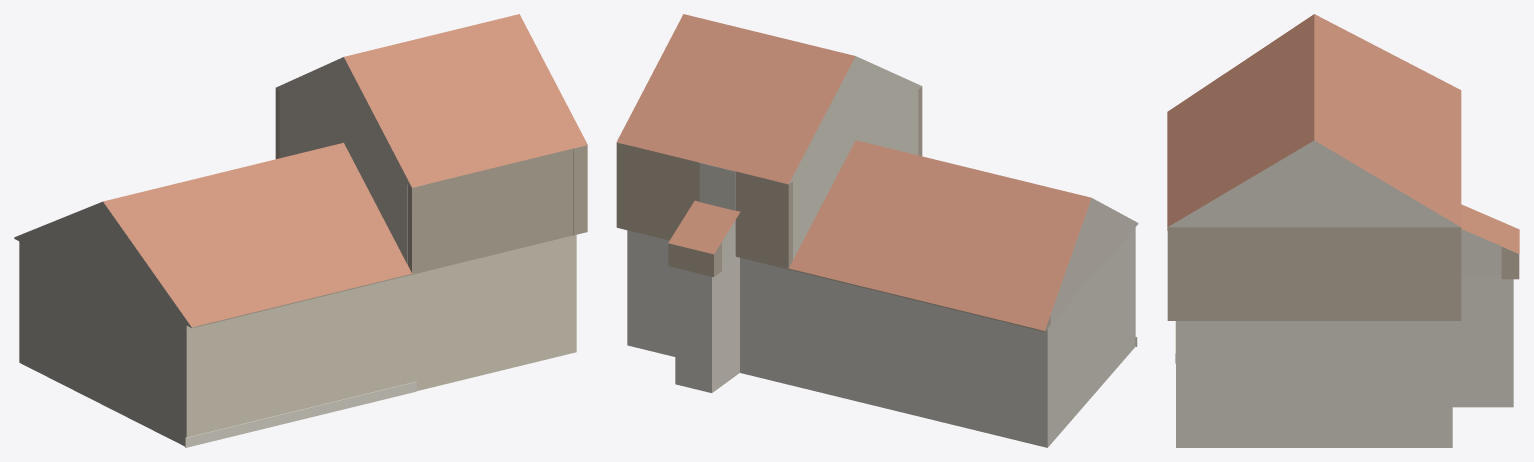
3 renders of one model, left to right at view 1: azimuth 30°, elevation 25°; view 2: azimuth 150°, elevation 25°; view 3: azimuth 270°, elevation 25°, orthographic. The views are drawn at different scales.
Visible parts, largest first — view 1: CP_627_Masonry, CP_627_Roof, CP_627_WingRoof_Dwelling, CP_627_WingRoof_Dwelling_EaveClosure_0, CP_627_AtticClosure, CP_627_Gable_L_gable, CP_627_Cornice_plinth_0, CP_627_WingRoof_Dwelling_EaveClosure_1, CP_627_WingRoof_Dwelling_EaveClosure_3; view 2: CP_627_Masonry, CP_627_Roof, CP_627_WingRoof_Dwelling, CP_627_WingRoof_Dwelling_EaveClosure_2, CP_627_AtticClosure, CP_627_Gable_L_gable, CP_627_WingRoof_Stair, CP_627_WingRoof_Stair_EaveClosure_0, CP_627_WingRoof_Dwelling_EaveClosure_1, CP_627_WingRoof_Dwelling_EaveClosure_3; view 3: CP_627_Masonry, CP_627_WingRoof_Dwelling, CP_627_WingRoof_Dwelling_EaveClosure_1, CP_627_Roof, CP_627_WingRoof_Dwelling_EaveClosure_0, CP_627_WingRoof_Dwelling_EaveClosure_2, CP_627_AtticClosure, CP_627_WingRoof_Stair, CP_627_WingRoof_Stair_EaveClosure_0.
Part boxes in pixels (bbox=[...]): CP_627_Masonry: bbox=[19, 235, 576, 446]; CP_627_Roof: bbox=[103, 142, 416, 327]; CP_627_WingRoof_Dwelling: bbox=[275, 14, 587, 187]; CP_627_WingRoof_Dwelling_EaveClosure_0: bbox=[408, 148, 573, 272]; CP_627_AtticClosure: bbox=[279, 58, 407, 264]; CP_627_Gable_L_gable: bbox=[14, 201, 197, 327]; CP_627_Cornice_plinth_0: bbox=[185, 381, 416, 447]; CP_627_WingRoof_Dwelling_EaveClosure_1: bbox=[573, 145, 587, 235]; CP_627_WingRoof_Dwelling_EaveClosure_3: bbox=[412, 184, 426, 274]; CP_627_Masonry: bbox=[627, 227, 1135, 447]; CP_627_Roof: bbox=[786, 140, 1115, 330]; CP_627_WingRoof_Dwelling: bbox=[617, 14, 922, 184]; CP_627_WingRoof_Dwelling_EaveClosure_2: bbox=[630, 146, 792, 267]; CP_627_AtticClosure: bbox=[699, 57, 918, 264]; CP_627_Gable_L_gable: bbox=[1038, 198, 1138, 331]; CP_627_WingRoof_Stair: bbox=[668, 200, 740, 254]; CP_627_WingRoof_Stair_EaveClosure_0: bbox=[668, 242, 721, 276]; CP_627_WingRoof_Dwelling_EaveClosure_1: bbox=[616, 142, 630, 230]; CP_627_WingRoof_Dwelling_EaveClosure_3: bbox=[774, 181, 788, 269]; CP_627_Masonry: bbox=[1176, 275, 1513, 447]; CP_627_WingRoof_Dwelling: bbox=[1167, 48, 1461, 227]; CP_627_WingRoof_Dwelling_EaveClosure_1: bbox=[1185, 227, 1461, 320]; CP_627_Roof: bbox=[1167, 14, 1461, 230]; CP_627_WingRoof_Dwelling_EaveClosure_0: bbox=[1167, 227, 1185, 320]; CP_627_WingRoof_Dwelling_EaveClosure_2: bbox=[1443, 227, 1460, 320]; CP_627_AtticClosure: bbox=[1461, 229, 1501, 275]; CP_627_WingRoof_Stair: bbox=[1461, 204, 1519, 253]; CP_627_WingRoof_Stair_EaveClosure_0: bbox=[1501, 246, 1519, 279].
Size of the model in its own units: 18.65 by 11.8 by 12.1.
